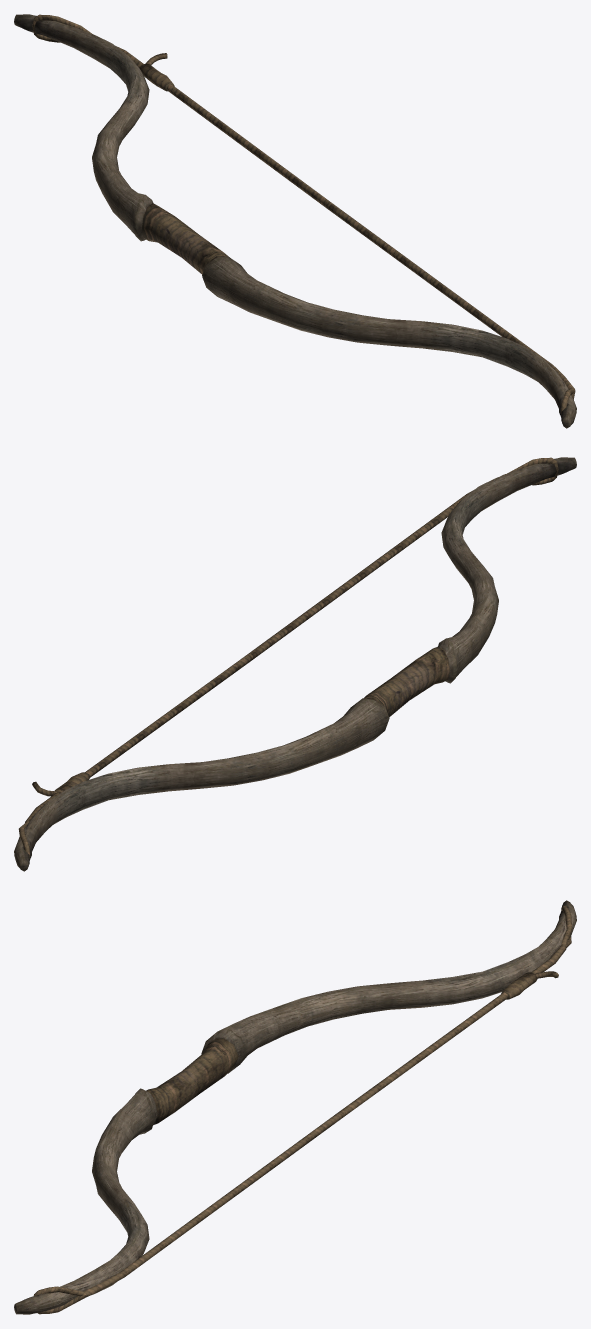
3 renders of one model, top to bottom at view 1: azimuth 30°, elevation 25°; view 2: azimuth 150°, elevation 25°; view 3: azimuth 330°, elevation 25°, orthographic.
Visible parts, largest first — view 1: WP_A_1406; view 2: WP_A_1406; view 3: WP_A_1406.
Part boxes in pixels (x1,y1,x2,y2): WP_A_1406: (14,14,576,428); WP_A_1406: (14,457,576,871); WP_A_1406: (14,900,576,1314).
Bounding box in the file's own units: 23.39 × 5.09 × 115.
1 material, 1 textured.
